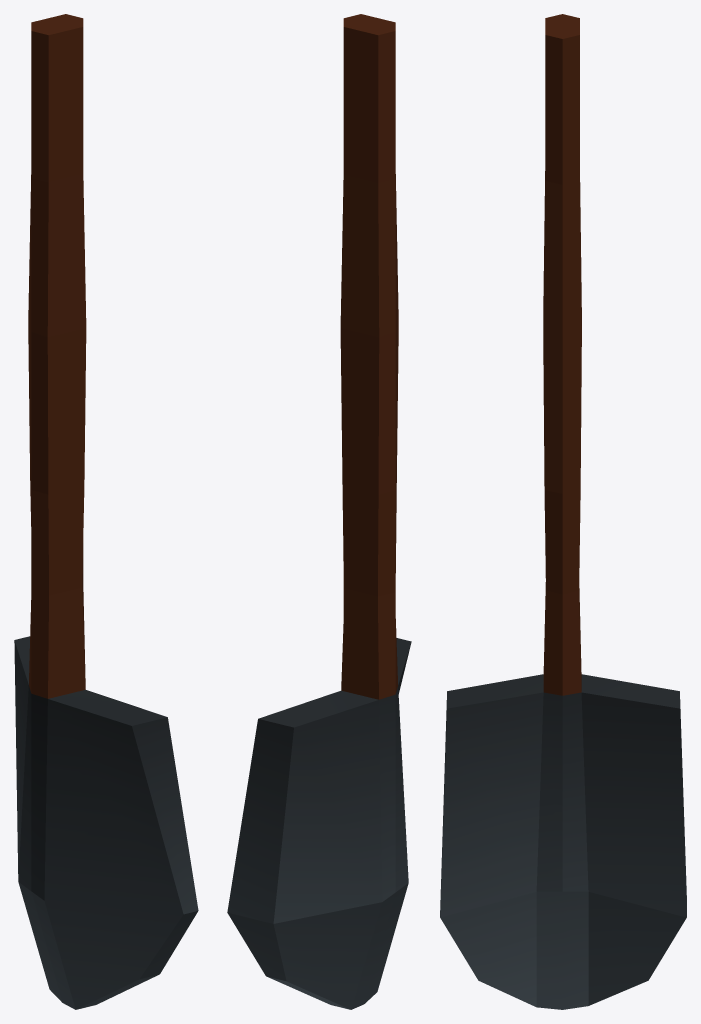
The model's file is pala arma .fbx.
3 renders of one model, left to right at view 1: azimuth 30°, elevation 25°; view 2: azimuth 150°, elevation 25°; view 3: azimuth 270°, elevation 25°, orthographic.
Visible parts, largest first — view 1: Cube; view 2: Cube; view 3: Cube.
Part boxes in pixels (x1,y1,x2,y2): Cube: (14,14,198,1009); Cube: (227,14,411,1009); Cube: (440,14,686,1009).
Bounding box in the file's own units: 71.97 × 639 × 147.
